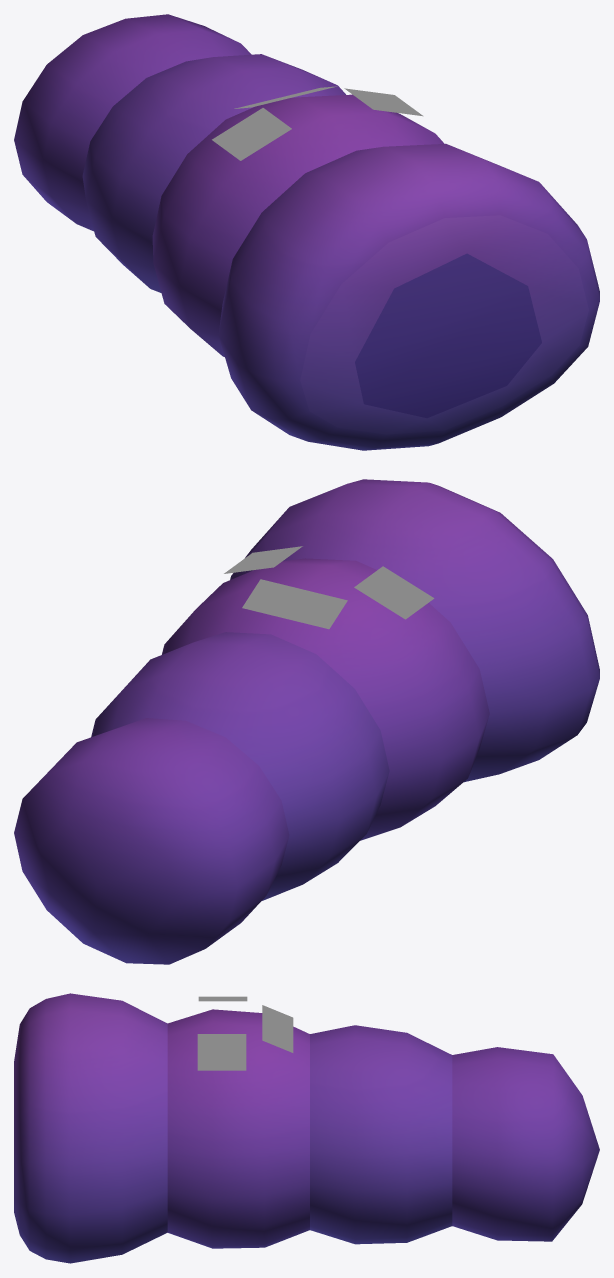
Rendered from sweet_tube_violet_smile.fbx.
3 views of the same model, one above another, from view 1: azimuth 30°, elevation 25°; view 2: azimuth 150°, elevation 25°; view 3: azimuth 270°, elevation 25° (orthographic). The views are drawn at different scales.
Visible parts, largest first — view 1: pie_violet, smile_pie; view 2: pie_violet, smile_pie; view 3: pie_violet, smile_pie.
Boxes of the visible parts, x1,y1,x2,y2 form: pie_violet: (14, 14, 599, 450); smile_pie: (212, 86, 423, 160); pie_violet: (14, 479, 599, 964); smile_pie: (224, 546, 434, 629); pie_violet: (14, 993, 599, 1263); smile_pie: (197, 996, 293, 1070).
Bounding box in the file's own units: 34.33 × 25.87 × 58.99.
